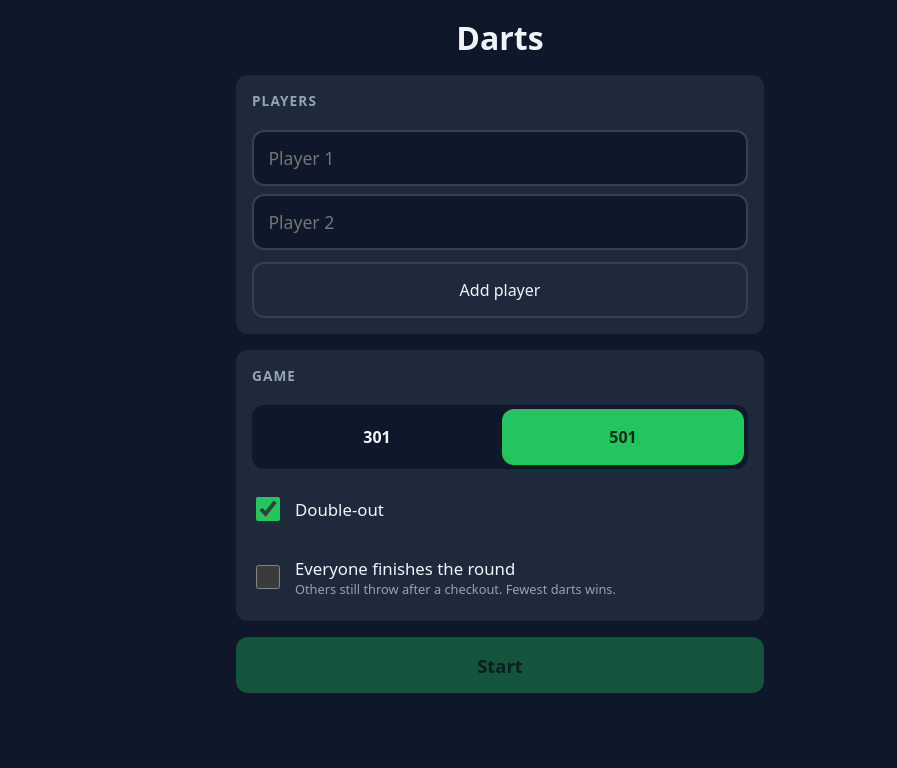
Test: App › shows scoreboard with both players at start score
This screenshot has width=897, height=768.
Type "Ann" into the field labelled "Player 1" at (500, 158), box x1=252 y1=130 x2=748 y2=186
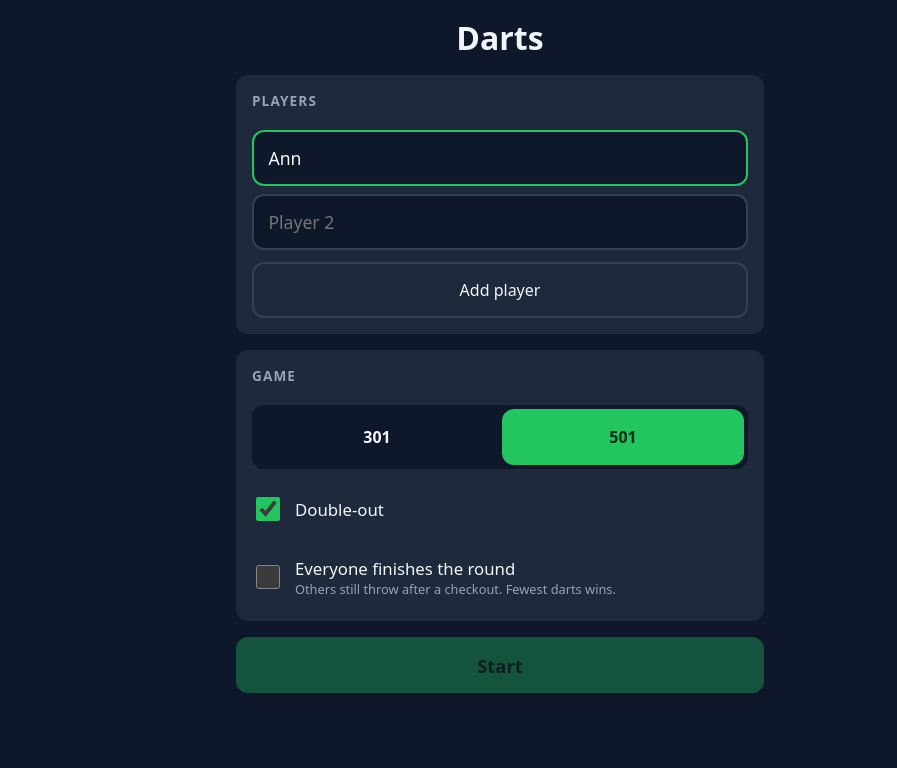
Type "Bob" into the field labelled "Player 2" at (500, 222), box x1=252 y1=194 x2=748 y2=250
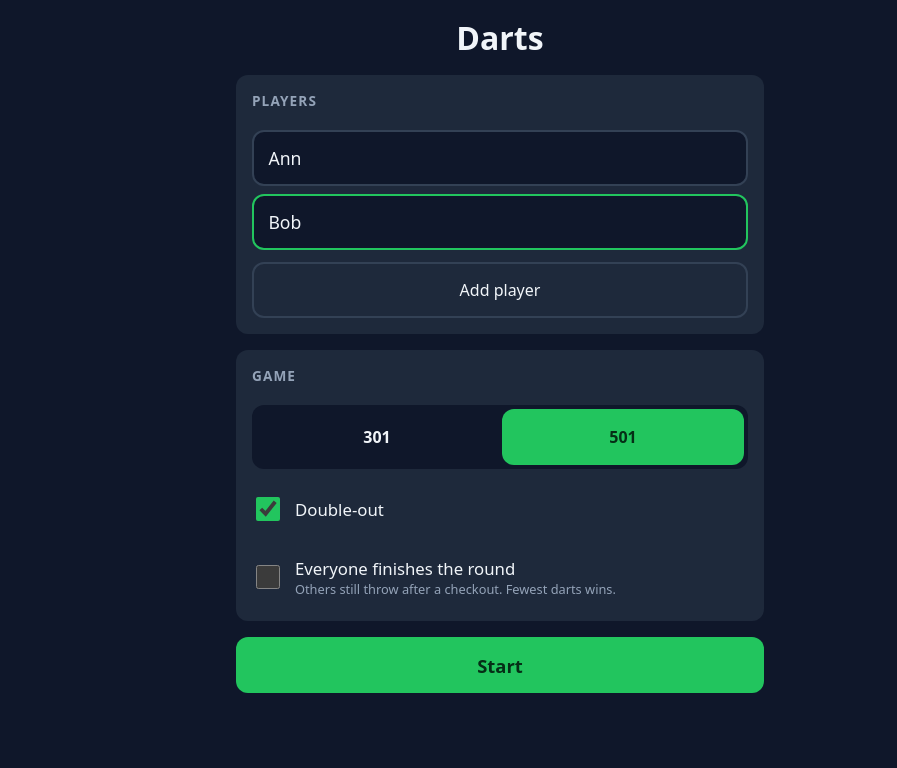
Click the radio button labelled "301" at (377, 437), box x1=256 y1=409 x2=498 y2=465
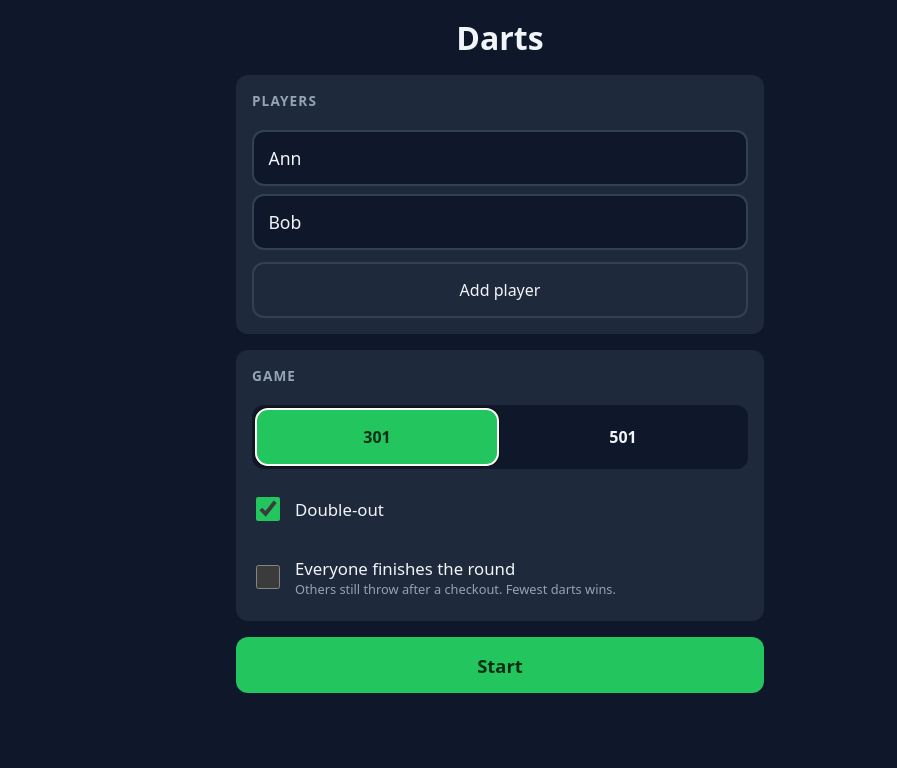
Click the checkbox labelled "Double-out" at (268, 509), box x1=256 y1=497 x2=280 y2=521
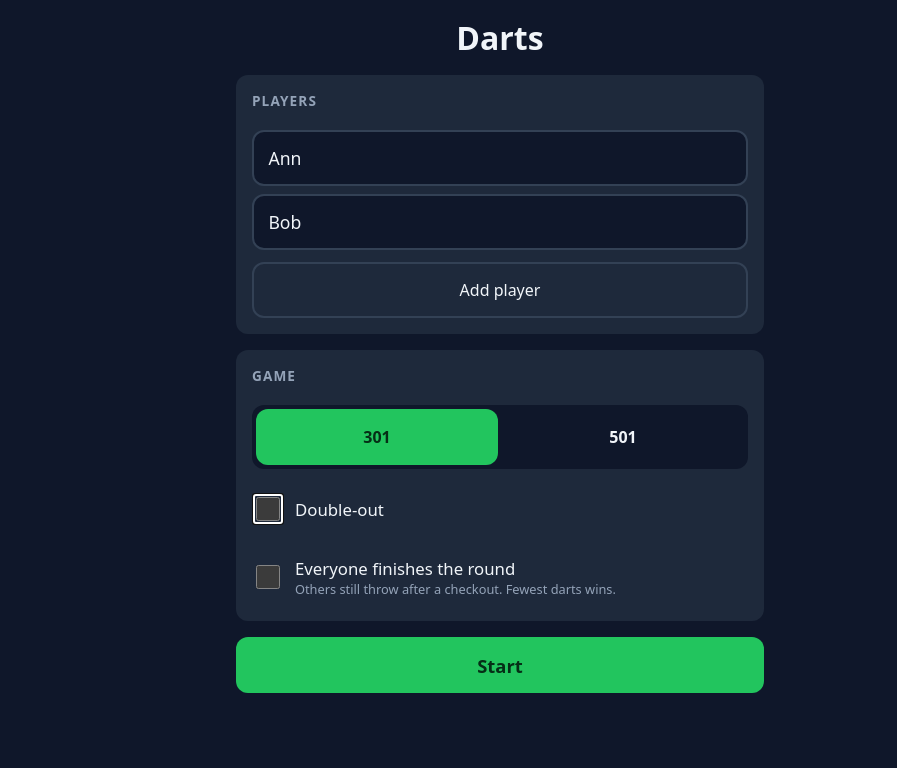
Click the button "Start" at (500, 665), box x1=236 y1=637 x2=764 y2=693
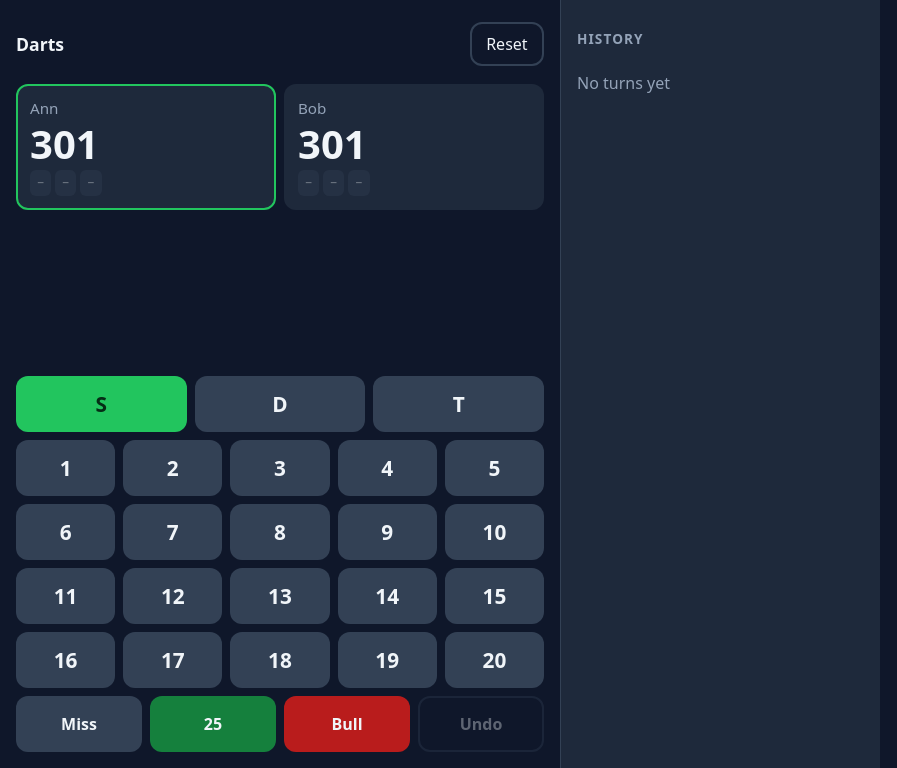
Result: the text "301" below "Ann" is shown at x1=30 y1=116 x2=99 y2=171
Result: the text "301" below "Bob" is shown at x1=298 y1=116 x2=367 y2=171
